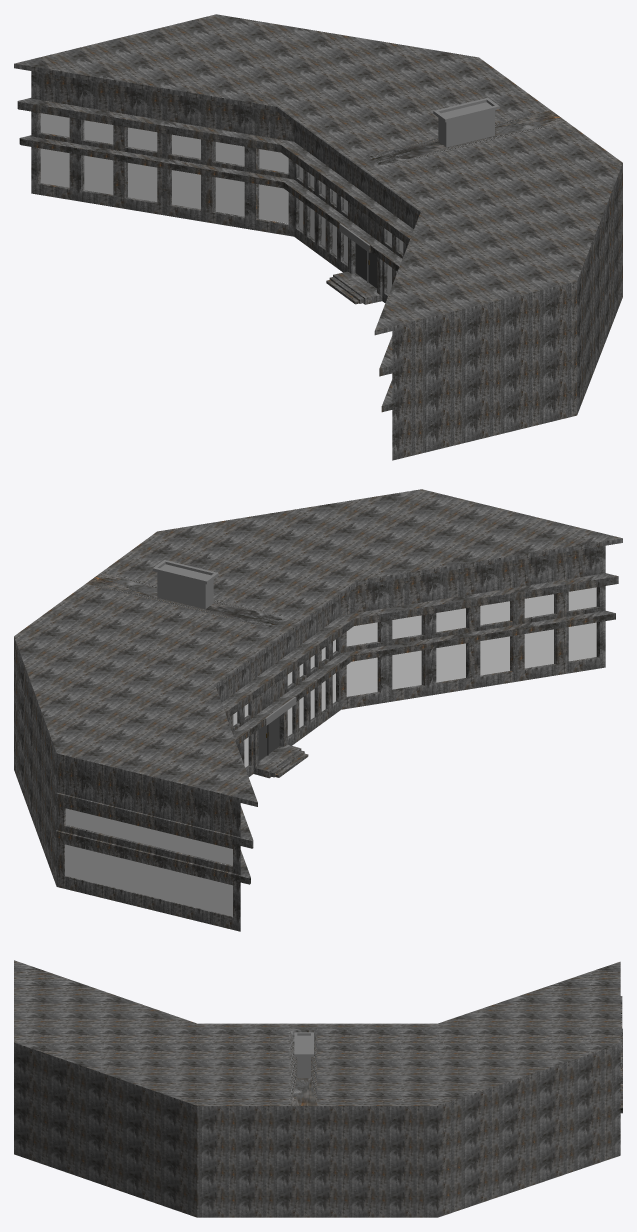
Rendered from building.dae.
3 renders of one model, top to bottom at view 1: azimuth 30°, elevation 25°; view 2: azimuth 150°, elevation 25°; view 3: azimuth 270°, elevation 25°, orthographic. The views are drawn at different scales.
Parts seen in each view (by area): view 1: Building-col; view 2: Building-col; view 3: Building-col.
Boxes of the visible parts, x1,y1,x2,y2 form: Building-col: (14, 14, 622, 460); Building-col: (14, 489, 622, 931); Building-col: (14, 960, 622, 1217).
Size of the model in its own units: 9.99 by 17.65 by 4.38.
Materials: 5 (1 with a texture image).
